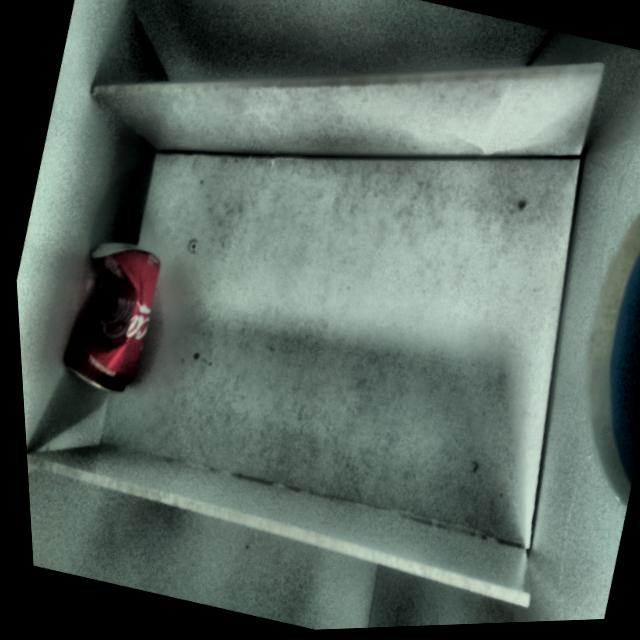Cans: (31, 207, 183, 426)
